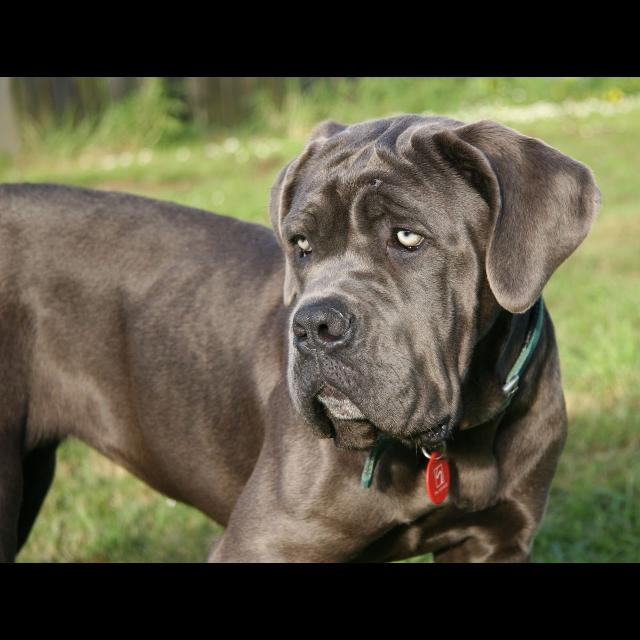mastino_napoletano: (2, 113, 602, 563)
